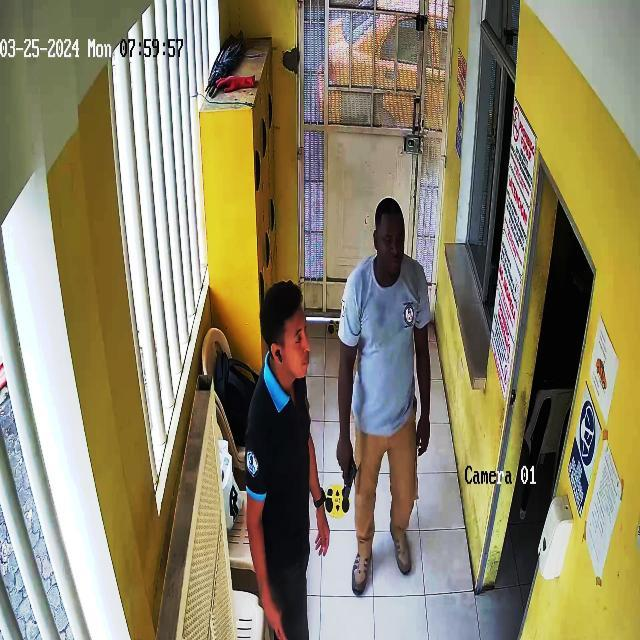Gun: (326, 457, 374, 511)
